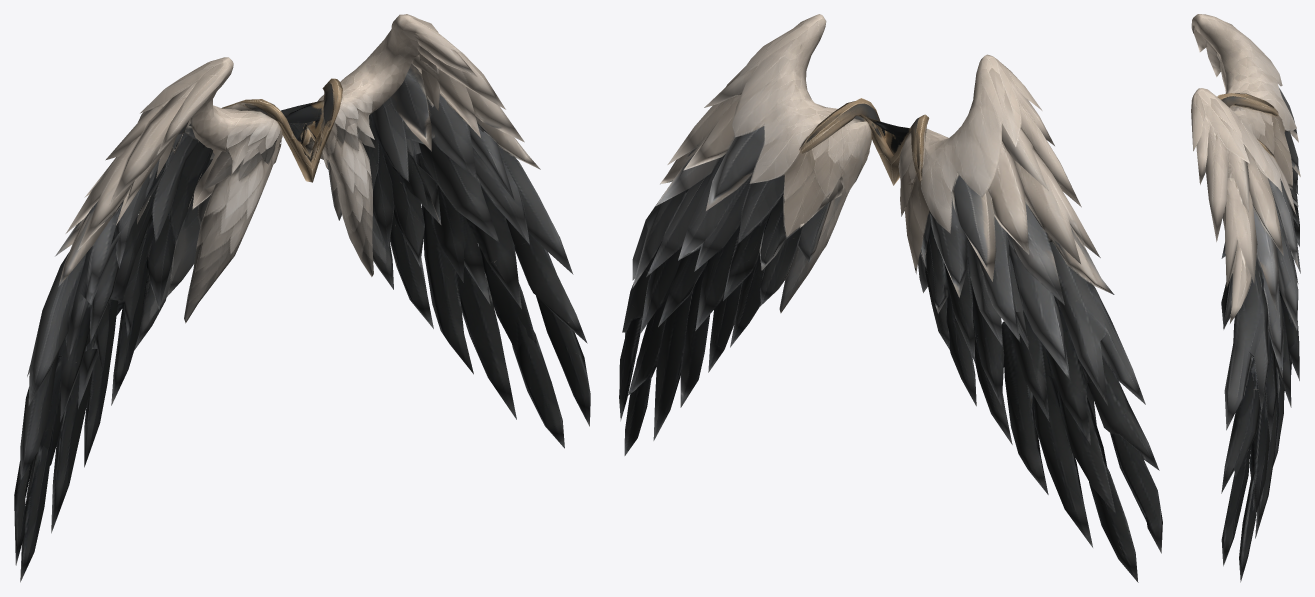
Rendered from hero_nocturne_priest_wings.glb.
3 views of the same model, side by side, from view 1: azimuth 30°, elevation 25°; view 2: azimuth 150°, elevation 25°; view 3: azimuth 270°, elevation 25° (orthographic). The views are drawn at different scales.
Bounding box in the file's own units: 1 × 0.8281 × 0.1963.
Materials: 1 (1 with a texture image).
